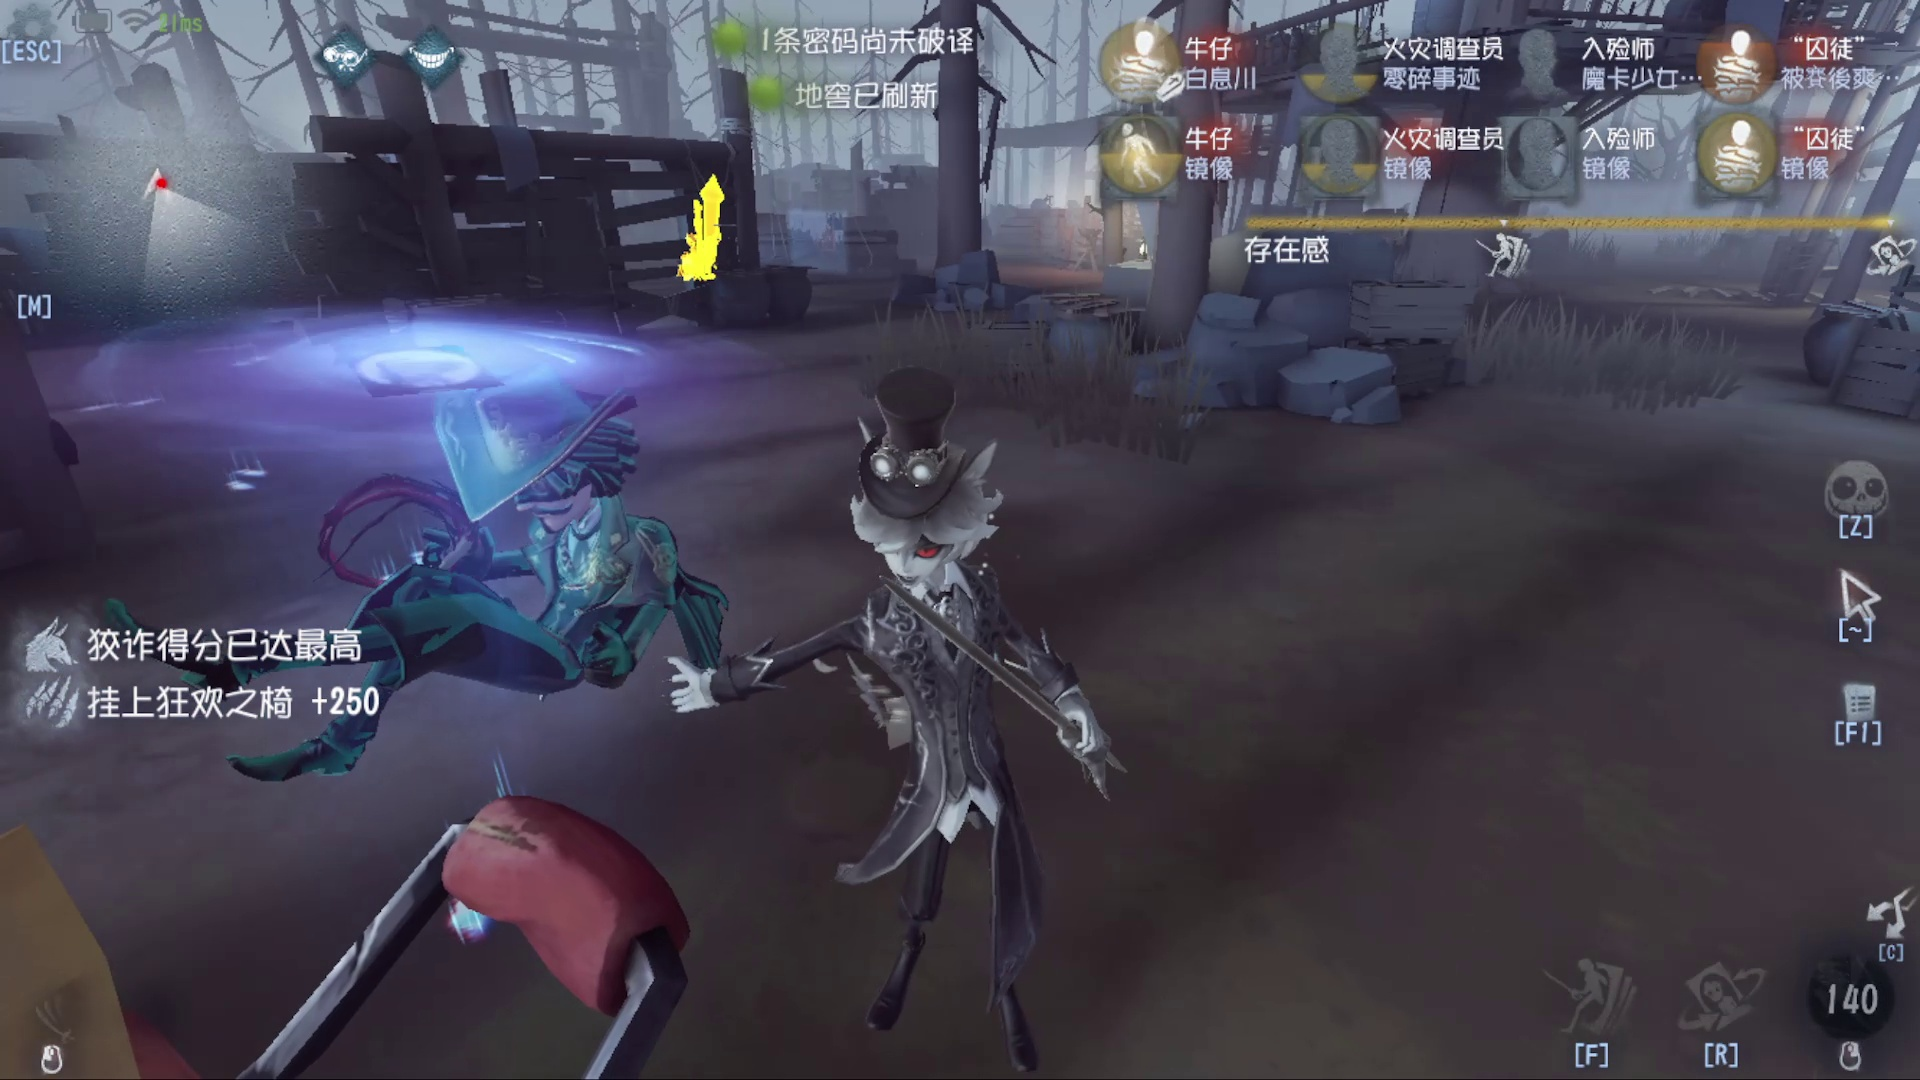求生者: (284, 382, 707, 708)
狂欢之椅: (650, 165, 752, 302)
